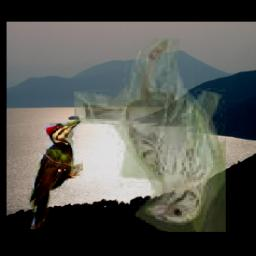Sparrow: (75, 35, 227, 233)
Woodpecker: (29, 119, 84, 230)
